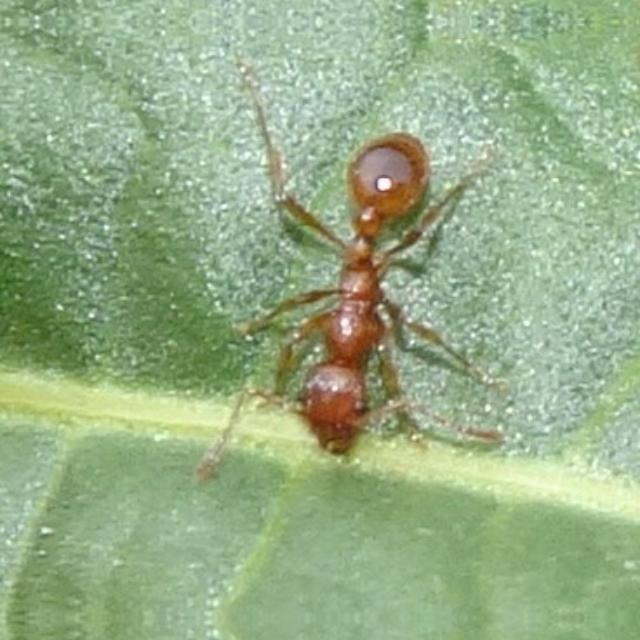Myrmica: (211, 91, 511, 462)
